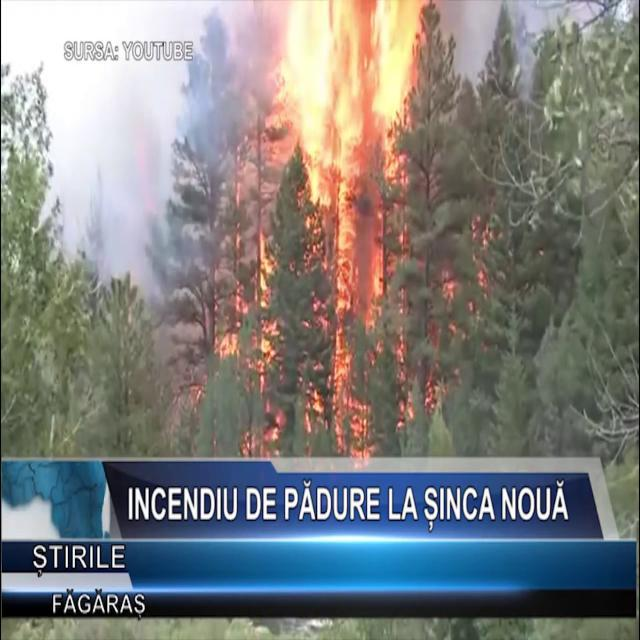Fire: (226, 0, 436, 442)
Smoke: (42, 0, 264, 302)
